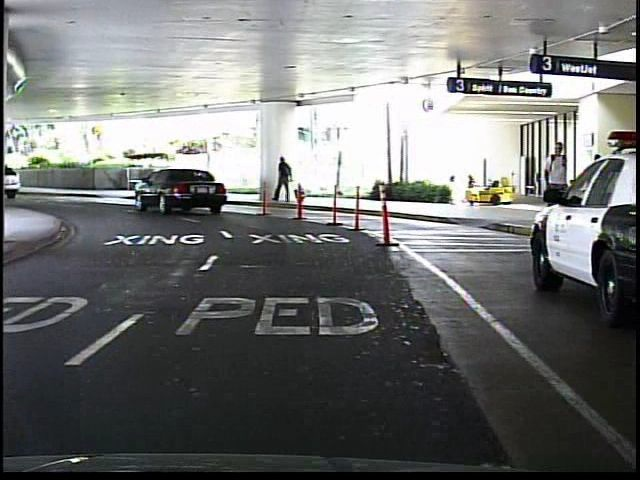person: (539, 139, 571, 235), (270, 156, 298, 208)
